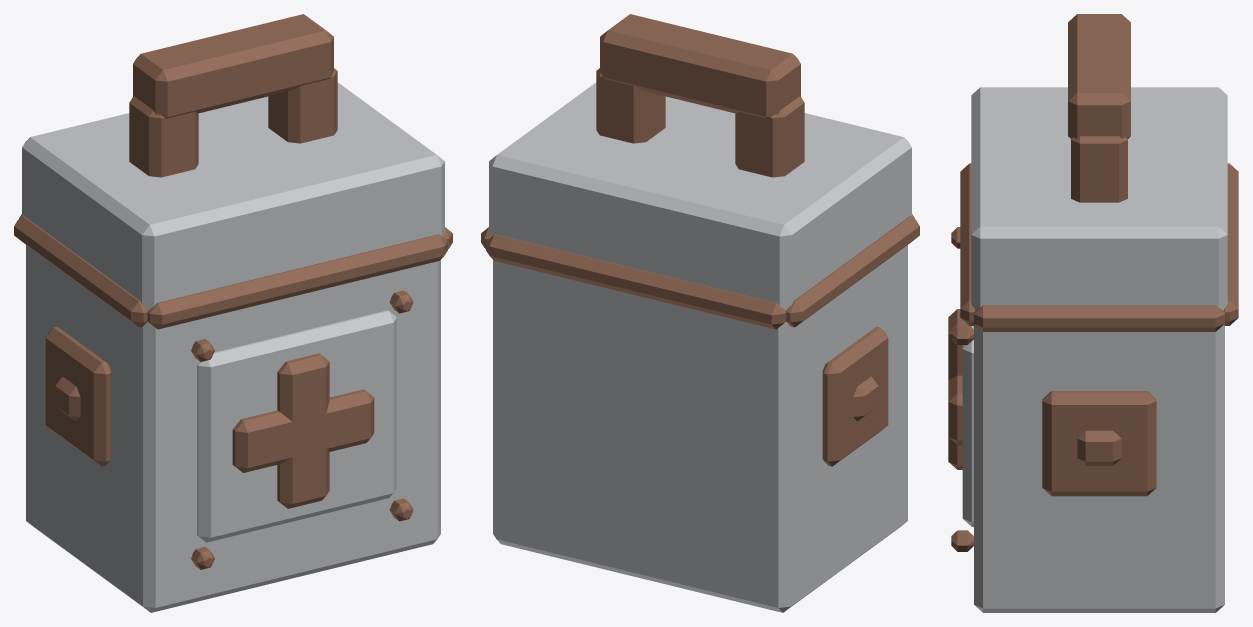
File: PU_FullHeal.fbx
3 renders of one model, left to right at view 1: azimuth 30°, elevation 25°; view 2: azimuth 150°, elevation 25°; view 3: azimuth 270°, elevation 25°, orthographic.
Visible parts, largest first — view 1: PU_FullHeal; view 2: PU_FullHeal; view 3: PU_FullHeal.
Part boxes in pixels (left/top/right/bottom): PU_FullHeal: left=14, top=14, right=452, bottom=612; PU_FullHeal: left=481, top=14, right=919, bottom=612; PU_FullHeal: left=948, top=14, right=1238, bottom=612.
Size of the model in its own units: 0.3995 by 0.55 by 0.2947.
